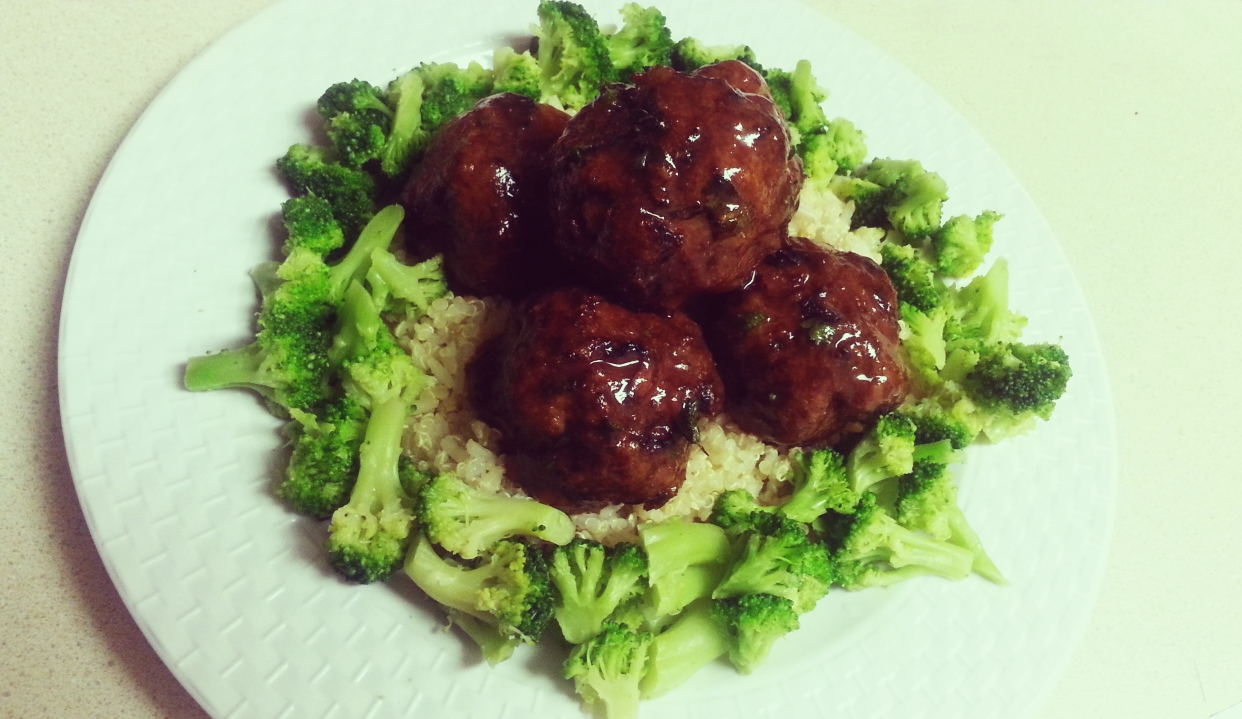meatballs: (458, 105, 891, 400)
plain rice: (369, 300, 463, 466), (683, 422, 786, 503)
